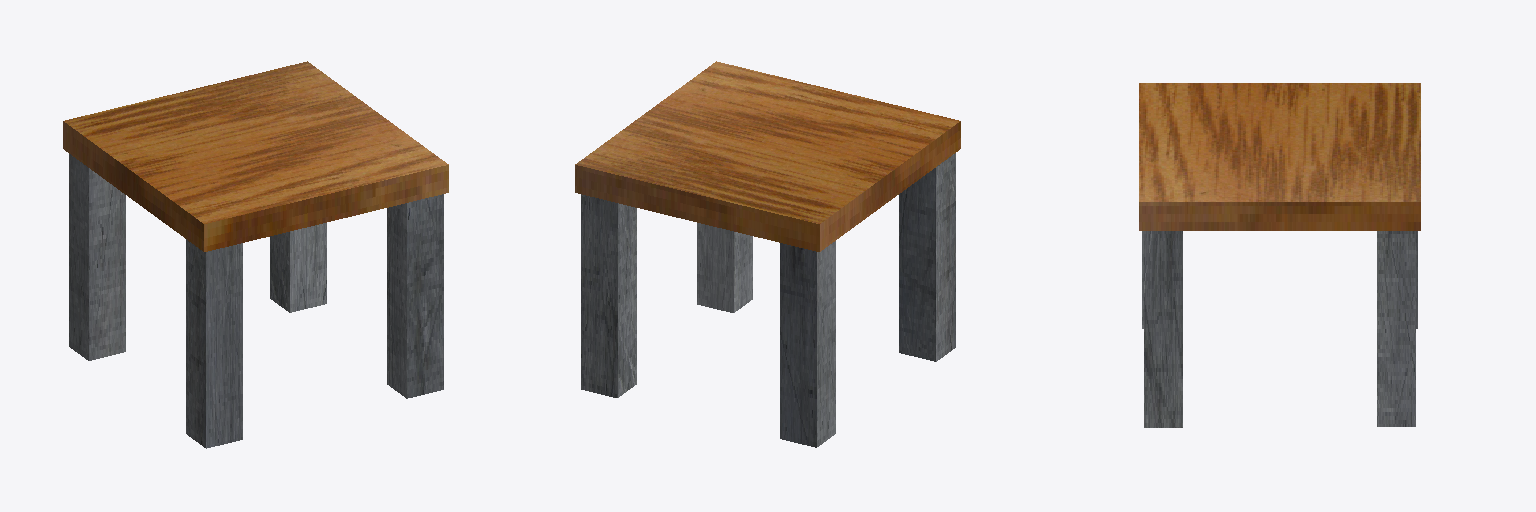
The picture shows the model from 3 angles: view 1: azimuth 30°, elevation 25°; view 2: azimuth 150°, elevation 25°; view 3: azimuth 270°, elevation 25°; orthographic projection.
Parts seen in each view (by area): view 1: Cube.002_Cube.007; view 2: Cube.002_Cube.007; view 3: Cube.002_Cube.007.
Part boxes in pixels (left/top/right/bottom): Cube.002_Cube.007: left=63, top=61, right=448, bottom=448; Cube.002_Cube.007: left=575, top=61, right=960, bottom=447; Cube.002_Cube.007: left=1139, top=83, right=1420, bottom=427.
Size of the model in its own units: 1.2 by 1.06 by 1.2.
1 materials, 1 textured.